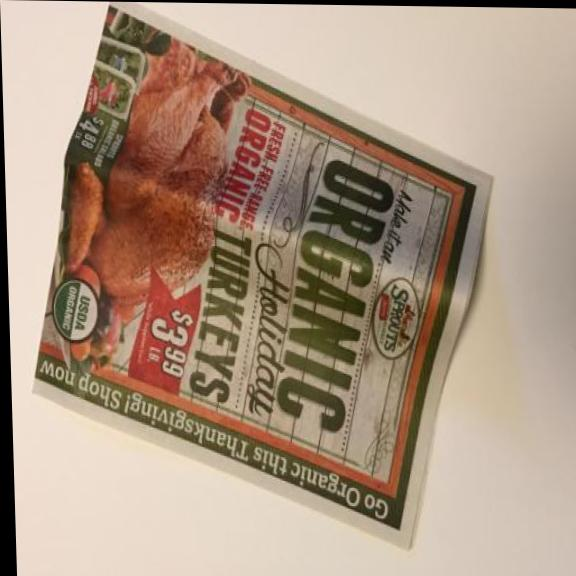Kertas: (18, 0, 511, 556)
